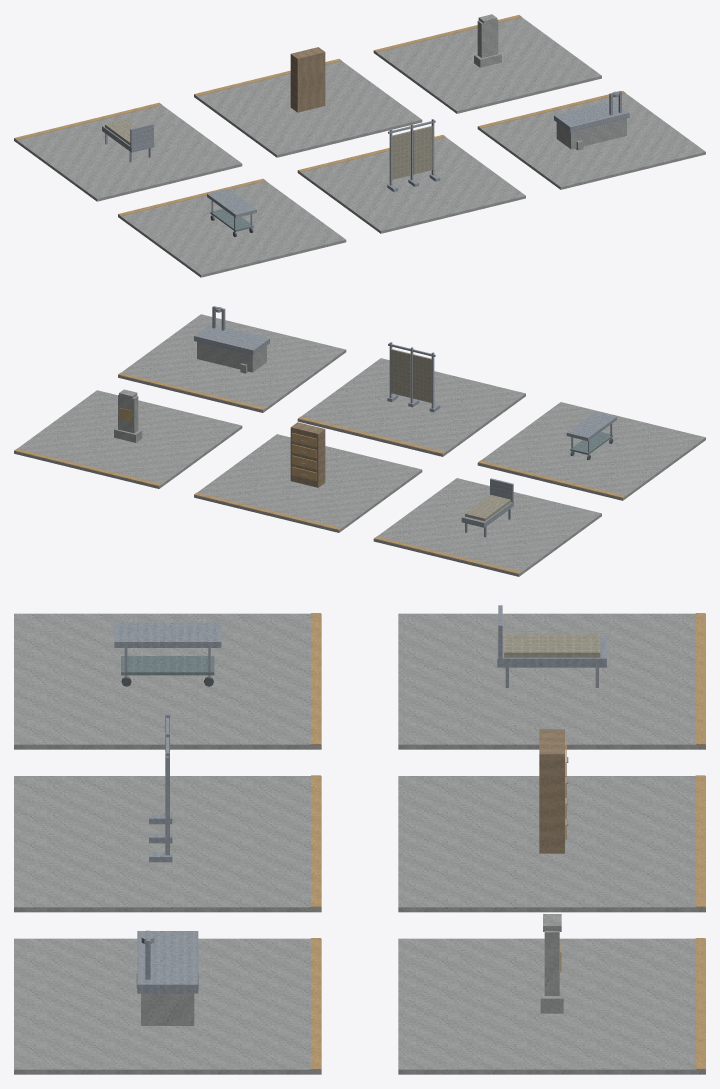
File: level_blockout_kit_wld_07_mortuary_p01.glb
3 views of the same model, one above another, from view 1: azimuth 30°, elevation 25°; view 2: azimuth 150°, elevation 25°; view 3: azimuth 270°, elevation 25° (orthographic). The views are drawn at different scales.
Parts seen in each view (by area): view 1: level_blockout_kit_wld_07_mortuary_p01; view 2: level_blockout_kit_wld_07_mortuary_p01; view 3: level_blockout_kit_wld_07_mortuary_p01.
Part boxes in pixels (<box>): level_blockout_kit_wld_07_mortuary_p01: <box>14,14,705,277</box>; level_blockout_kit_wld_07_mortuary_p01: <box>14,306,705,576</box>; level_blockout_kit_wld_07_mortuary_p01: <box>14,605,705,1074</box>.
Bounding box in the file's own units: 19.65 × 2.27 × 12.6.
7 materials, 7 textured.
